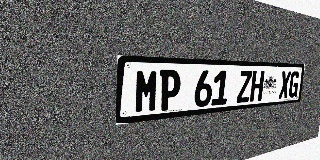1: (211, 70, 229, 106)
6: (194, 70, 214, 108)
G: (288, 71, 300, 98)
H: (250, 71, 265, 102)
M: (134, 69, 159, 114)
P: (158, 70, 181, 111)
X: (278, 71, 291, 99)
Z: (236, 71, 253, 103)
